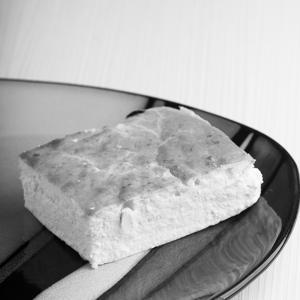casserole: (0, 94, 267, 270)
